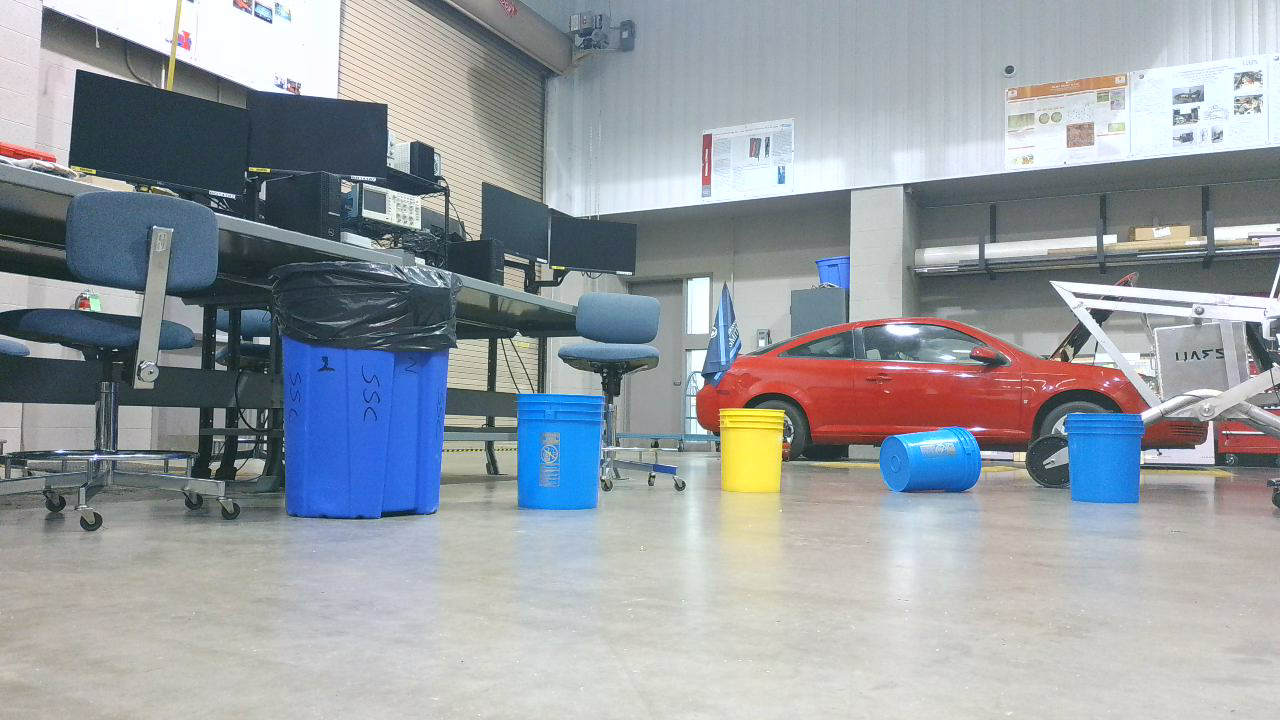blue_bucket: (515, 395, 614, 518), (1066, 414, 1151, 511), (882, 428, 990, 502)
yellow_bucket: (718, 411, 797, 501)
